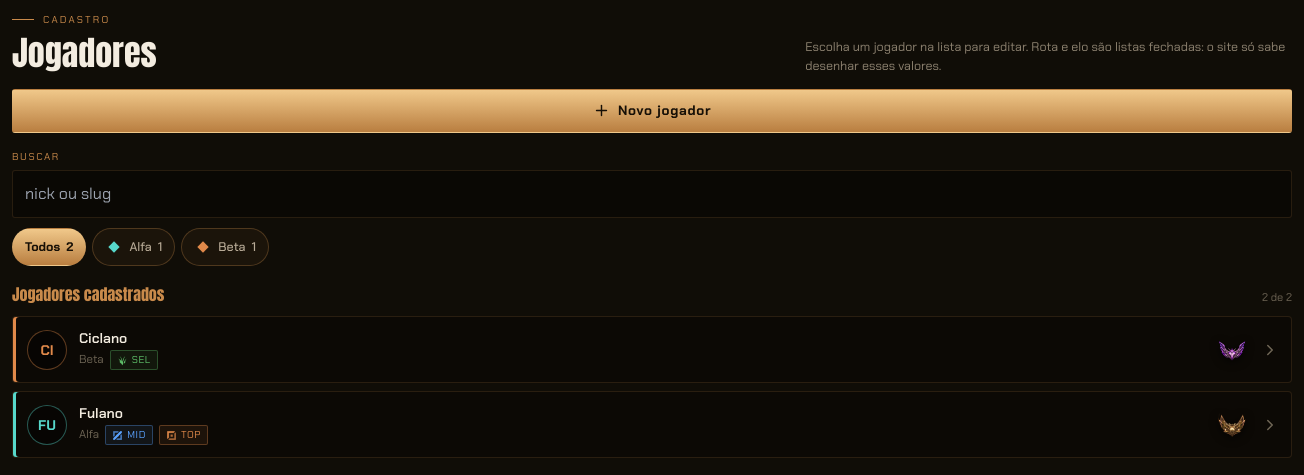
Jogadores › no celular o filtro de time é uma fileira de chips
Click the button "Beta 1" at (225, 247), box [181,228,269,266]
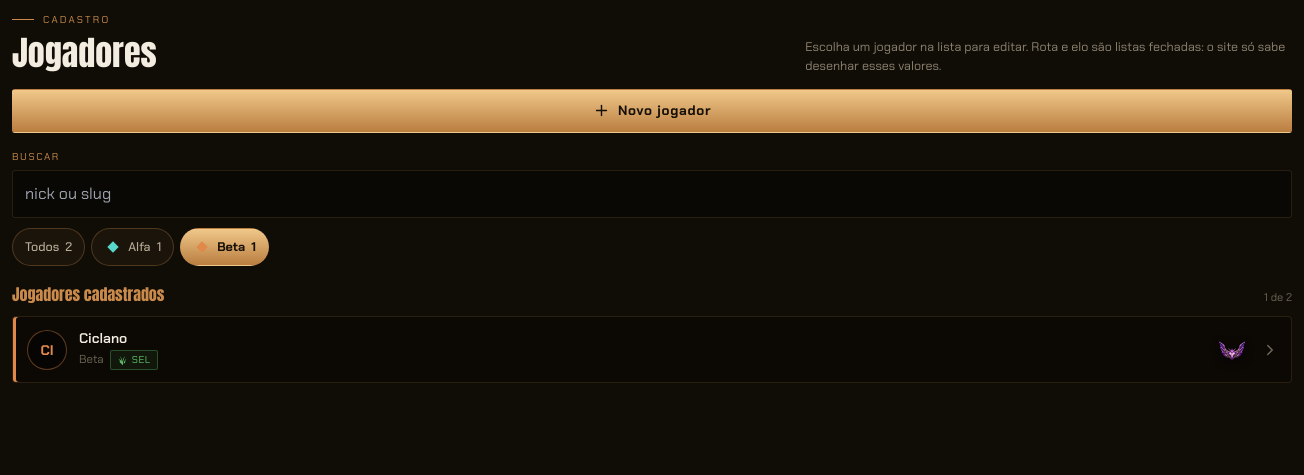
Expected: the button with aria-label "Editar Ciclano" is shown, [79,329,1203,347]
Now the text "Editar Fulano" is gone
